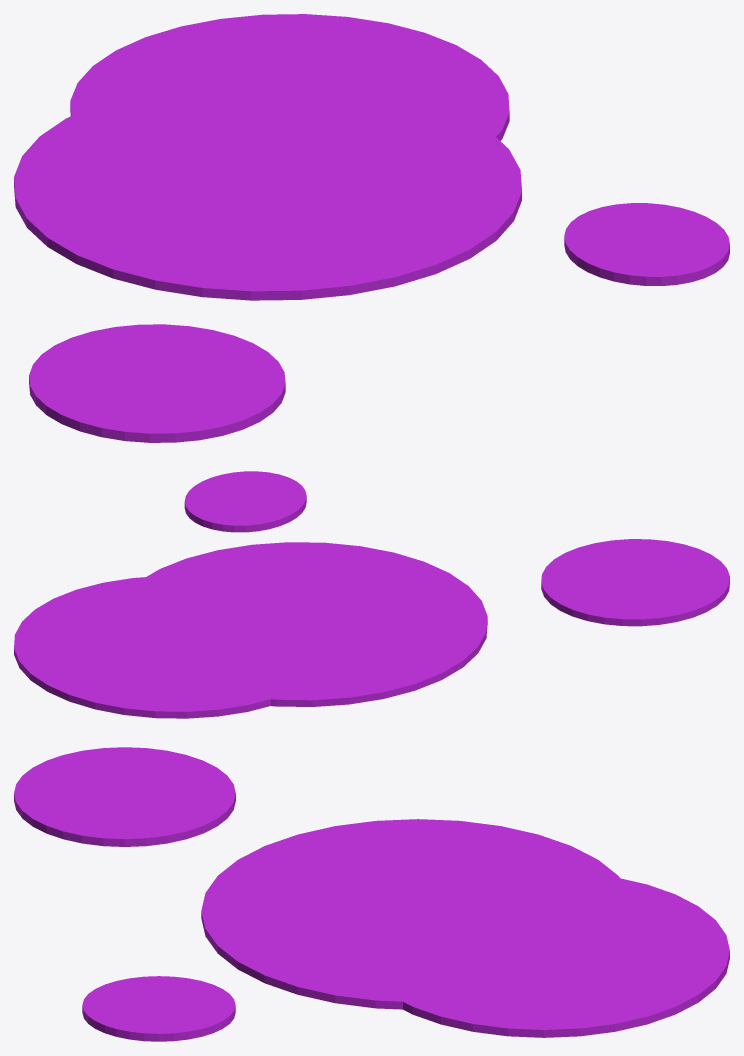
The model's file is paintsplat2.fbx.
3 views of the same model, one above another, from view 1: azimuth 30°, elevation 25°; view 2: azimuth 150°, elevation 25°; view 3: azimuth 270°, elevation 25° (orthographic). The views are drawn at different scales.
Visible parts, largest first — view 1: Cylinder; view 2: Cylinder; view 3: Cylinder.
Part boxes in pixels (x1,y1,x2,y2): Cylinder: (14,14,729,442); Cylinder: (14,471,729,718); Cylinder: (14,747,729,1041).
Size of the model in its own units: 153 by 1.96 by 161.
